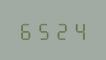five: (35, 20, 51, 40)
four: (69, 20, 85, 40)
six: (18, 20, 34, 40)
two: (52, 20, 68, 40)
